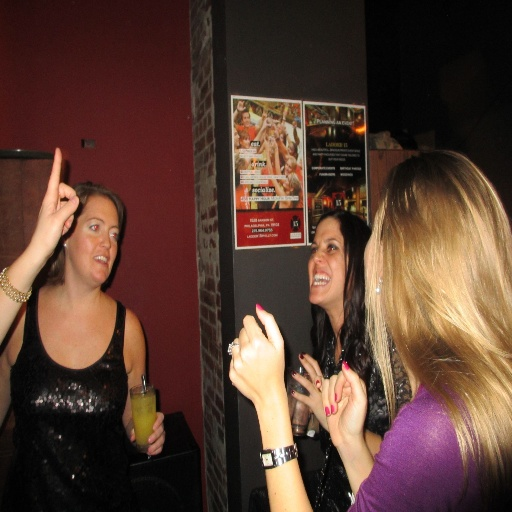hand: (228, 302, 293, 392), (31, 147, 78, 257), (312, 360, 366, 445), (290, 349, 328, 432), (286, 370, 318, 436), (130, 410, 165, 455), (236, 98, 246, 110), (262, 134, 269, 150), (272, 137, 277, 150), (261, 110, 267, 120), (281, 120, 286, 132), (292, 116, 297, 126)
